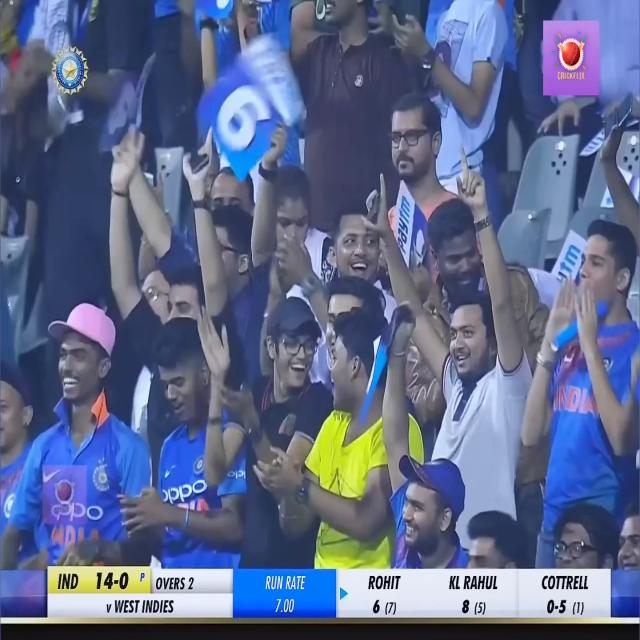fully_visible: (391, 171, 421, 261)
partially_visible: (538, 216, 590, 294)
